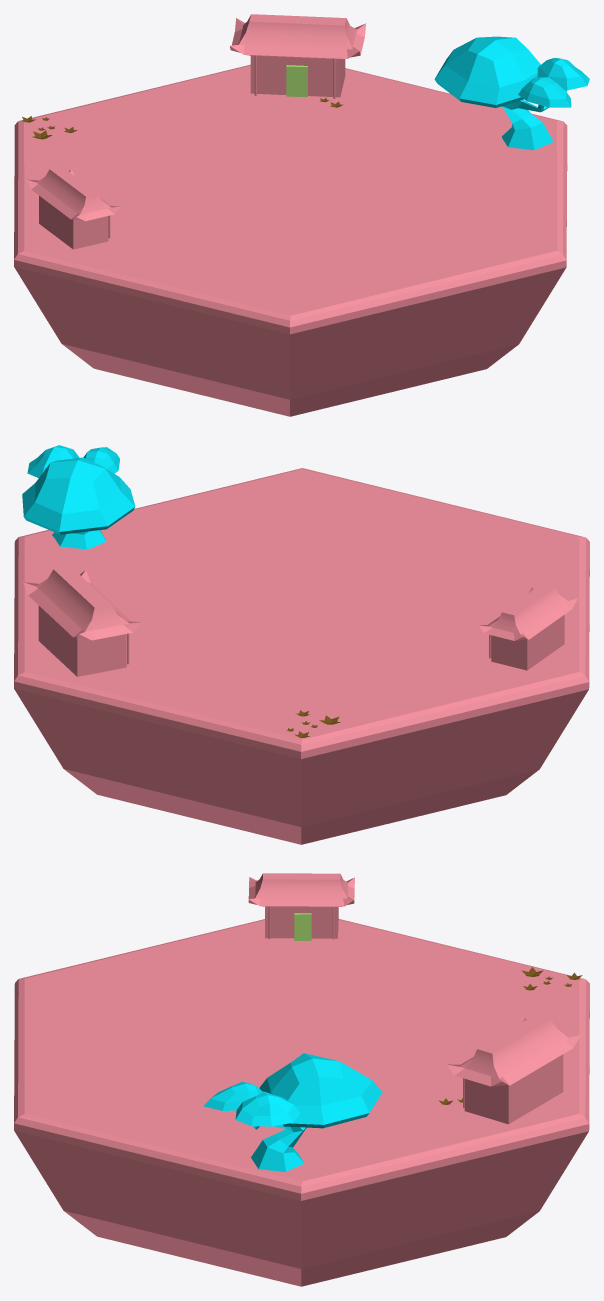
The model's file is Asset_Biome_China_01.fbx.
3 views of the same model, one above another, from view 1: azimuth 30°, elevation 25°; view 2: azimuth 150°, elevation 25°; view 3: azimuth 270°, elevation 25° (orthographic). The views are drawn at different scales.
Parts seen in each view (by area): view 1: Asset_Tile_China, Tree_china, House_china, House_china1; view 2: Asset_Tile_China, Tree_china, House_china, House_china1; view 3: Asset_Tile_China, Tree_china, House_china, House_china1.
Part boxes in pixels (box(x1,y1,x2,y2)): Asset_Tile_China: box(14, 64, 567, 416); Tree_china: box(434, 36, 589, 150); House_china: box(230, 14, 366, 98); House_china1: box(27, 166, 120, 249); Asset_Tile_China: box(14, 468, 589, 844); Tree_china: box(22, 445, 135, 549); House_china: box(23, 566, 141, 676); House_china1: box(478, 584, 577, 670); Asset_Tile_China: box(14, 919, 589, 1286); Tree_china: box(203, 1053, 382, 1171); House_china: box(446, 1015, 580, 1124); House_china1: box(248, 873, 354, 940).
Size of the model in its own units: 436 by 180 by 378.
